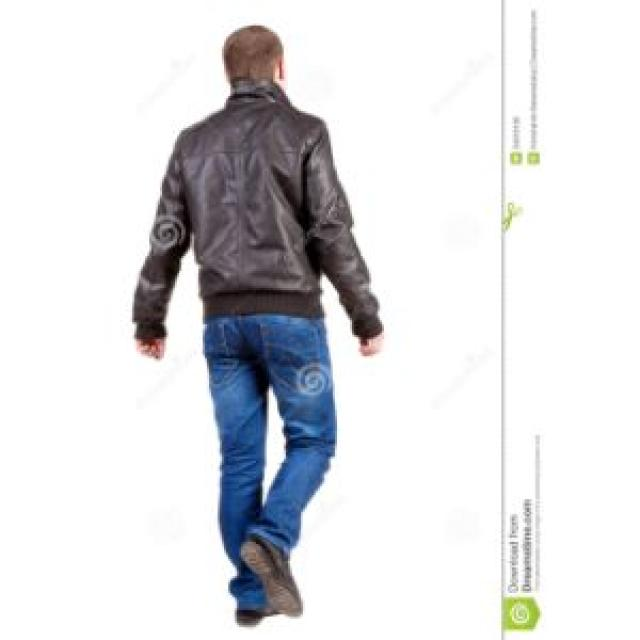nonfall: (141, 30, 396, 628)
